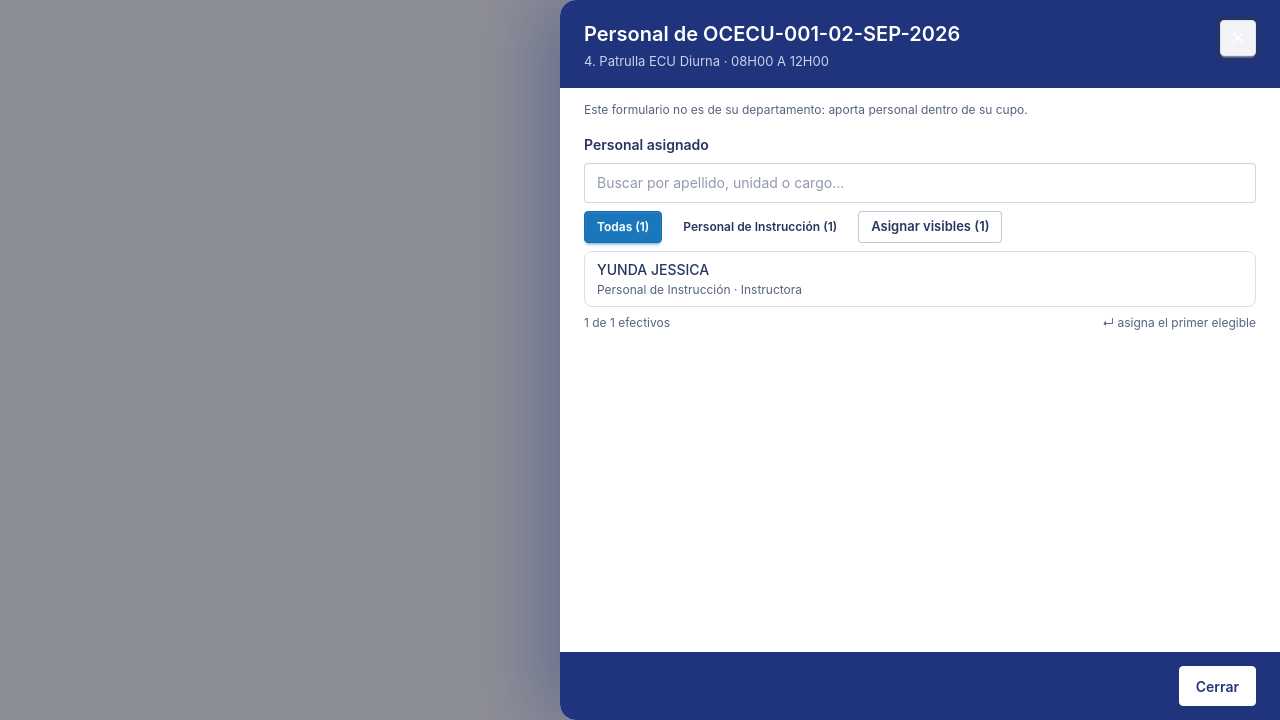
Scenario: P-13 · asignar personal lo dice › y si el servidor rechaza, muestra su motivo y ninguna confirmación
Click the button "YUNDA JESSICA Personal de Instrucción · Instructora": (752, 278) left=585, top=252, right=920, bottom=306
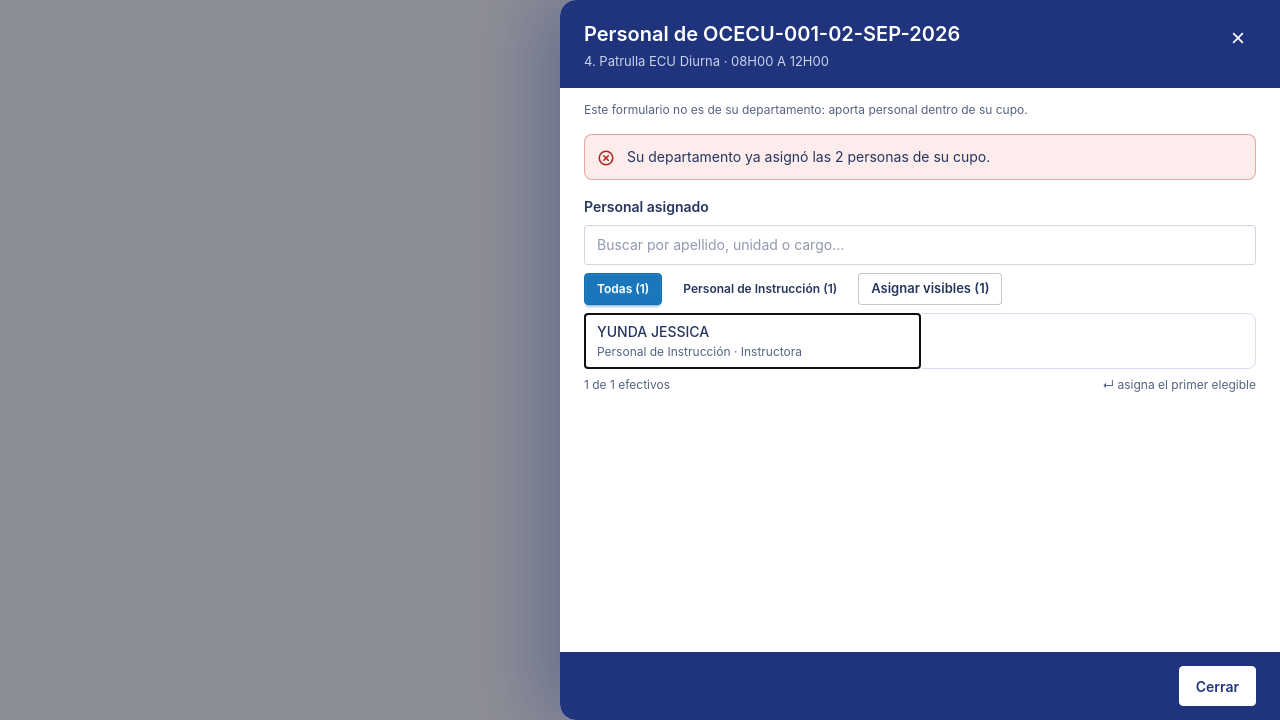
Result: the text "Su departamento ya asignó las 2 personas de su cupo." is shown at left=627, top=148, right=990, bottom=164
